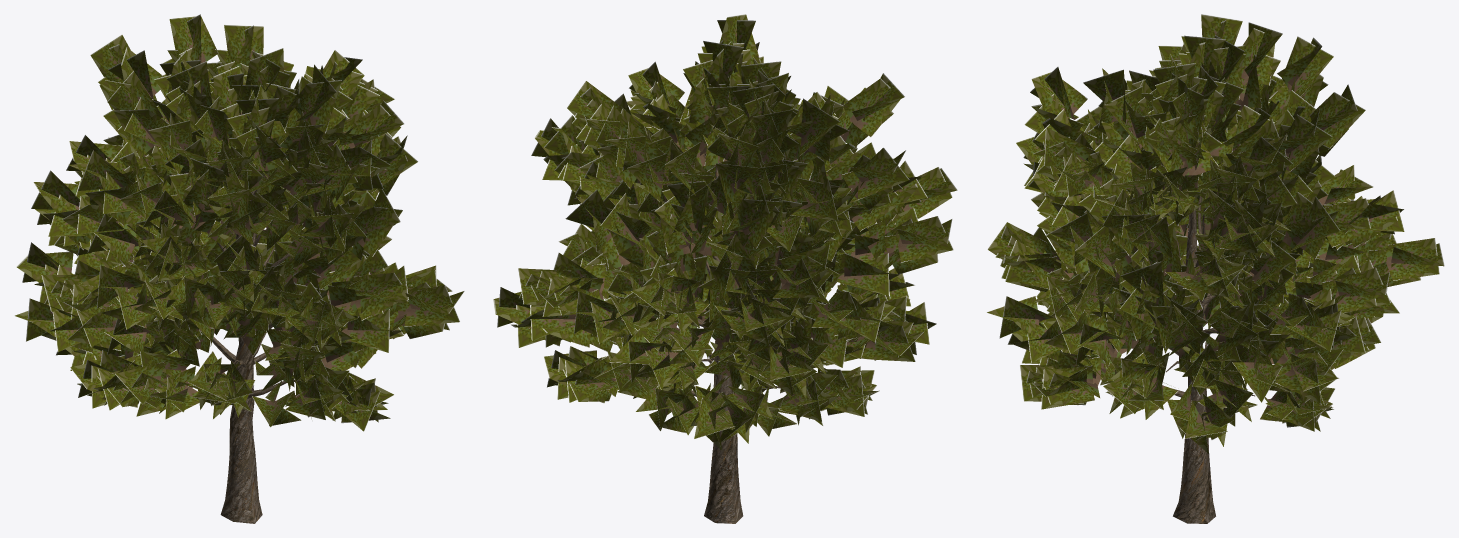
Rendered from tree_5k.glb.
3 renders of one model, left to right at view 1: azimuth 30°, elevation 25°; view 2: azimuth 150°, elevation 25°; view 3: azimuth 270°, elevation 25°, orthographic.
Parts seen in each view (by area): view 1: tree_leaves, tree_base; view 2: tree_leaves, tree_base; view 3: tree_leaves, tree_base.
Part boxes in pixels (x1=…): tree_leaves: x1=14, y1=14, x2=464, y2=431; tree_base: x1=212, y1=189, x2=294, y2=523; tree_leaves: x1=493, y1=14, x2=957, y2=450; tree_base: x1=629, y1=165, x2=780, y2=523; tree_leaves: x1=986, y1=14, x2=1444, y2=453; tree_base: x1=1157, y1=176, x2=1259, y2=523.
Size of the model in its own units: 11.87 by 12.96 by 11.62.
Materials: 2 (2 with a texture image).
